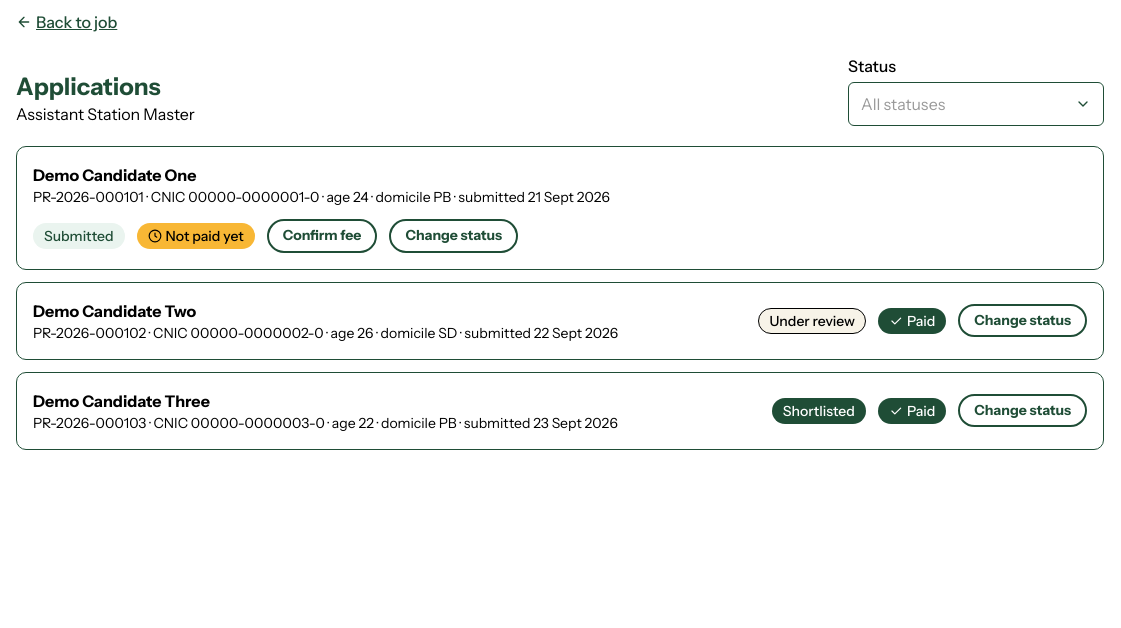
Scenario: JobApplicationsPage › lets an admin move an application to a later status
Click the button "Change status" in the row of "Not paid yet". click: (454, 236)
box: x1=389 y1=219 x2=518 y2=252
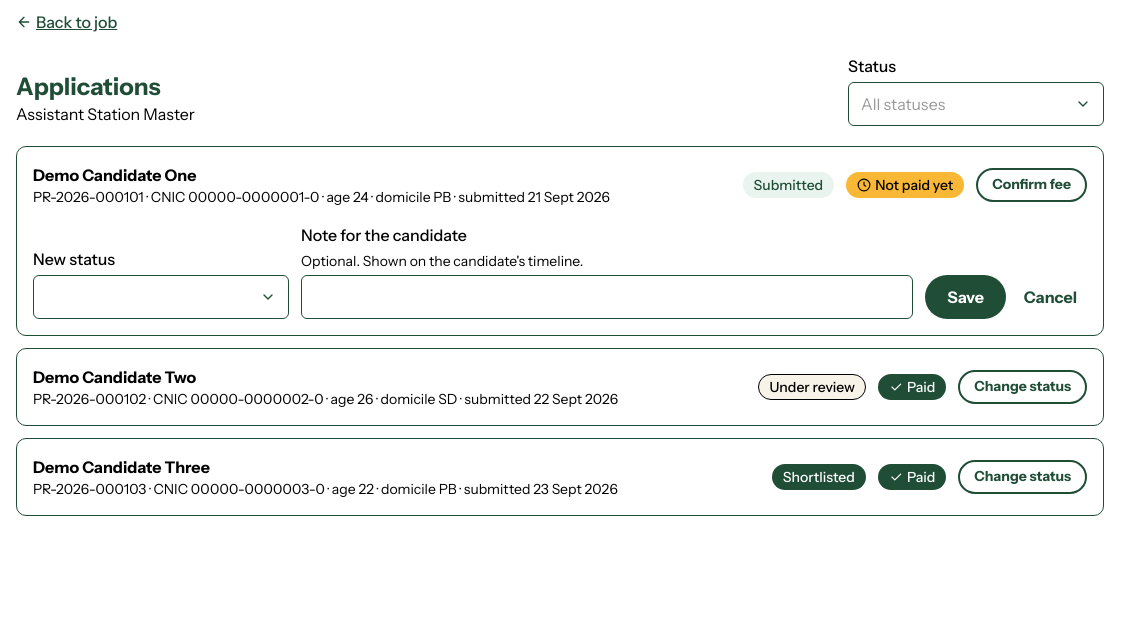
Click the dropdown named "New status". click: (161, 297)
box: x1=33 y1=275 x2=289 y2=319
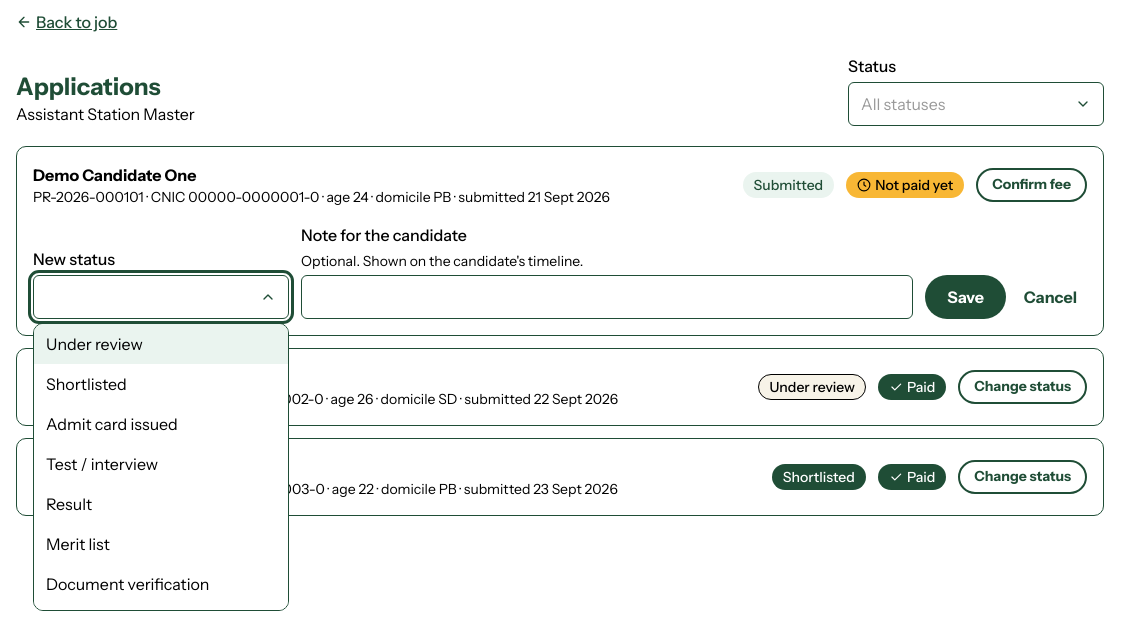
Click the option "Shortlisted". click: (86, 384)
box: x1=46 y1=374 x2=127 y2=394
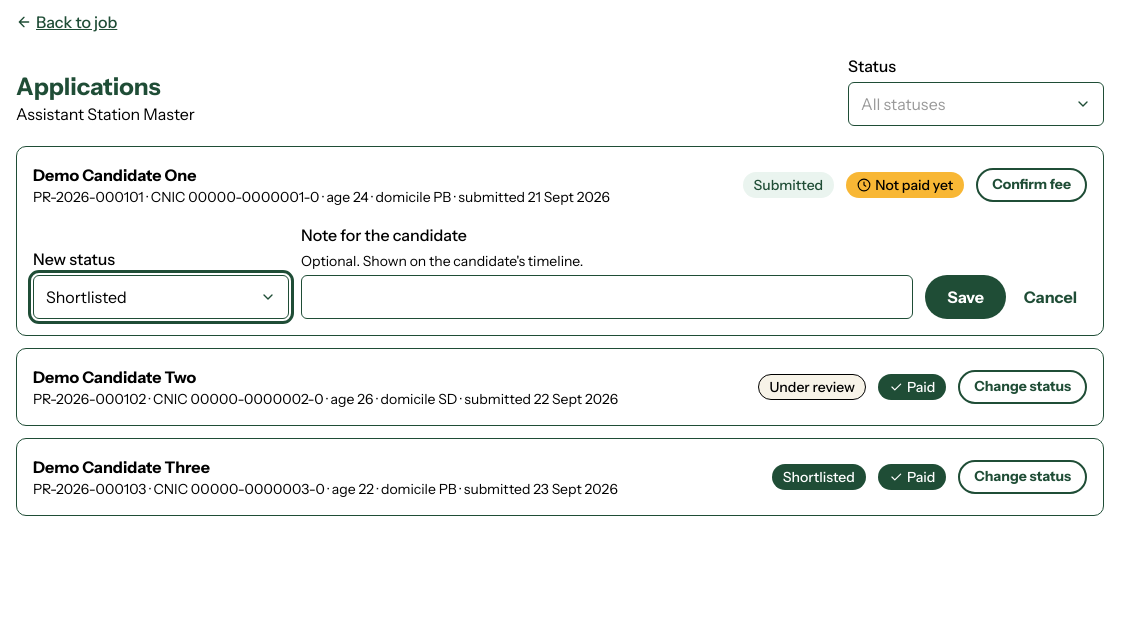
Click the button "Save". click: (966, 297)
box: x1=925 y1=275 x2=1006 y2=319
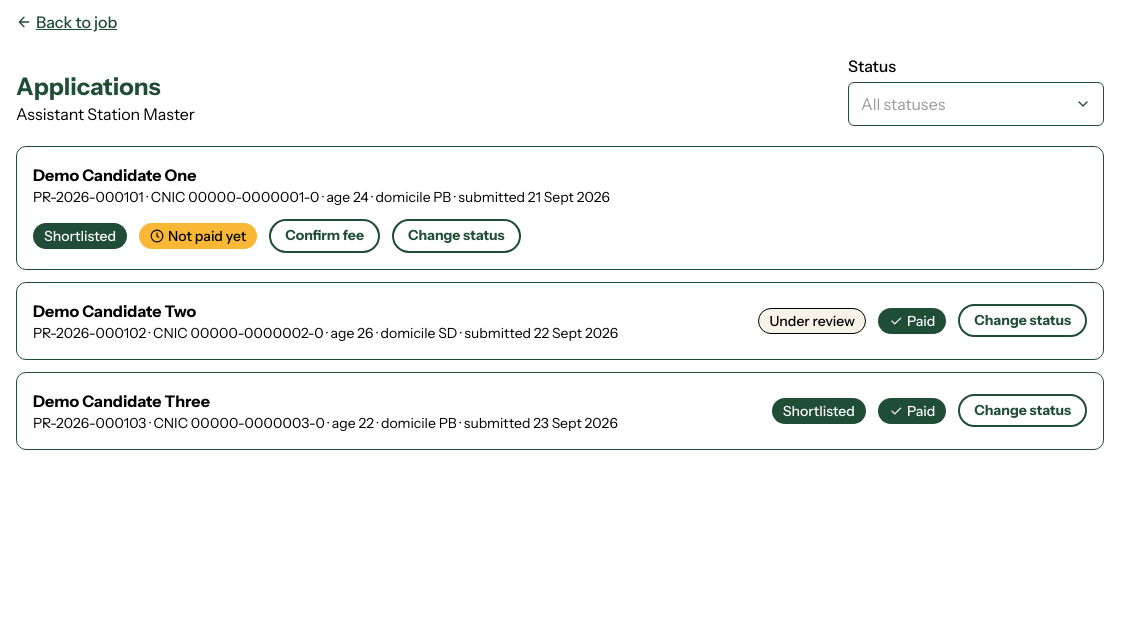
Result: the text "Shortlisted" next to "Not paid yet" is shown at x1=44 y1=227 x2=116 y2=245
